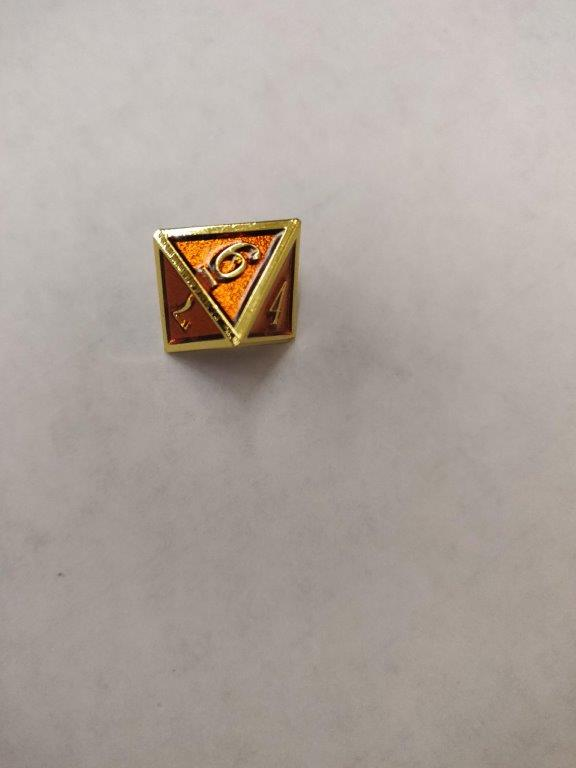d8-6: (153, 217, 301, 352)
